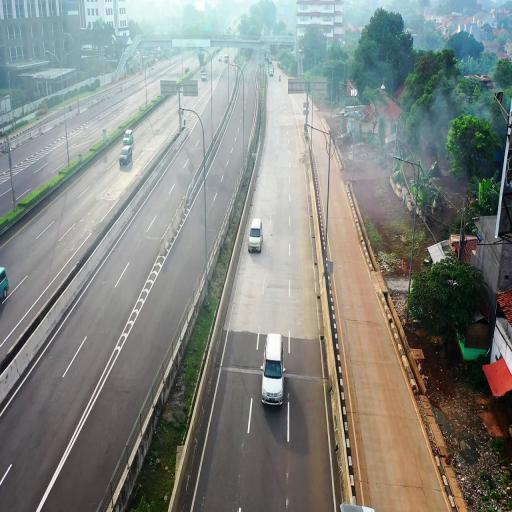vehicle: (260, 332, 285, 406), (260, 332, 284, 406), (118, 130, 134, 170), (248, 218, 262, 254), (0, 266, 10, 305)
